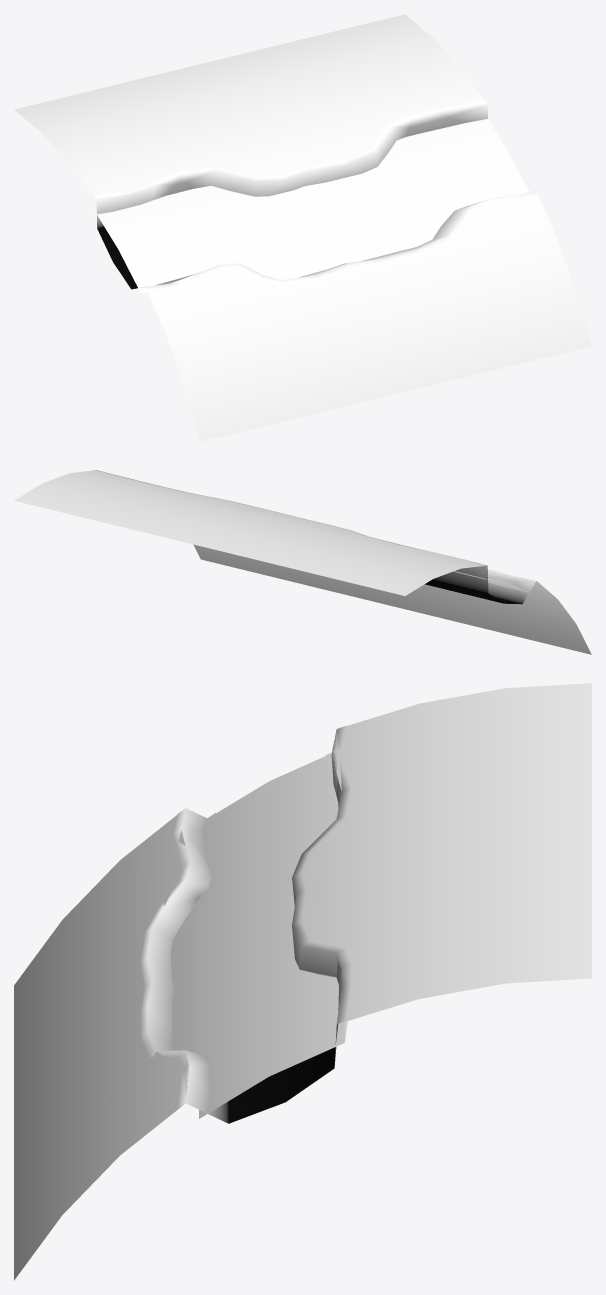
Rendered from grd_Re_0.dae.
3 views of the same model, one above another, from view 1: azimuth 30°, elevation 25°; view 2: azimuth 150°, elevation 25°; view 3: azimuth 270°, elevation 25° (orthographic). The views are drawn at different scales.
Parts seen in each view (by area): view 1: grass_1_0, river_2_0, cliff_river_0_0, river_edge_3_0; view 2: grass_1_0, cliff_river_0_0; view 3: grass_1_0, river_2_0, cliff_river_0_0, river_edge_3_0.
Part boxes in pixels (x1,y1,x2,y2): grass_1_0: (14, 14, 591, 441); river_2_0: (94, 119, 528, 292); cliff_river_0_0: (93, 99, 538, 292); river_edge_3_0: (94, 119, 528, 293); grass_1_0: (14, 470, 591, 654); cliff_river_0_0: (94, 470, 538, 604); grass_1_0: (14, 683, 591, 1280); river_2_0: (171, 754, 344, 1118); cliff_river_0_0: (140, 726, 351, 1123); river_edge_3_0: (170, 753, 347, 1118).
Bounding box in the file's own units: 512 × 244 × 423.
Materials: 4 (1 with a texture image).
